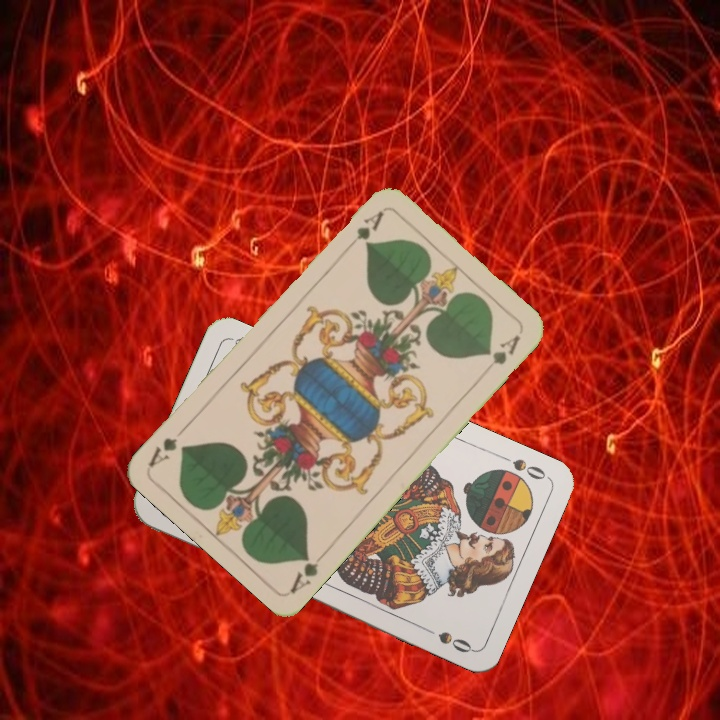GA: (343, 207, 387, 254), (286, 550, 321, 595)
SO: (495, 450, 551, 483)
